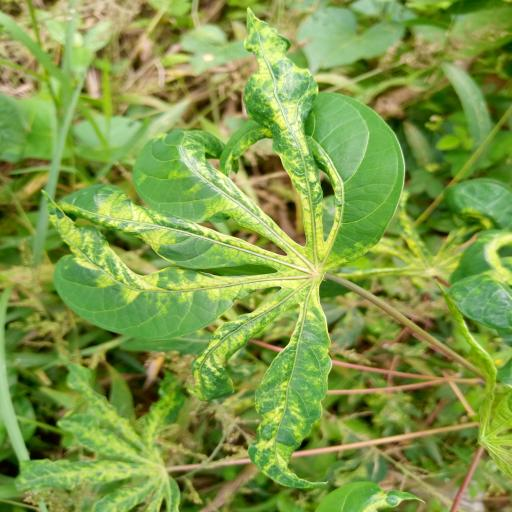Cassava_Mosaic: (45, 6, 411, 490)
